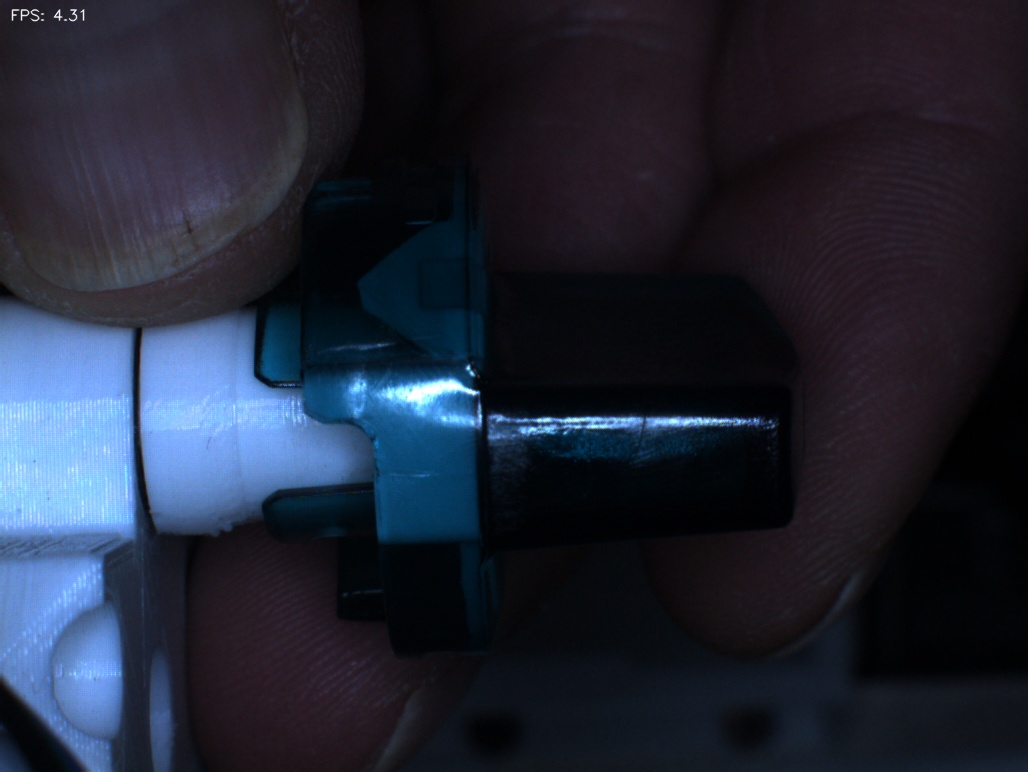DentOk: (326, 238, 407, 336)
